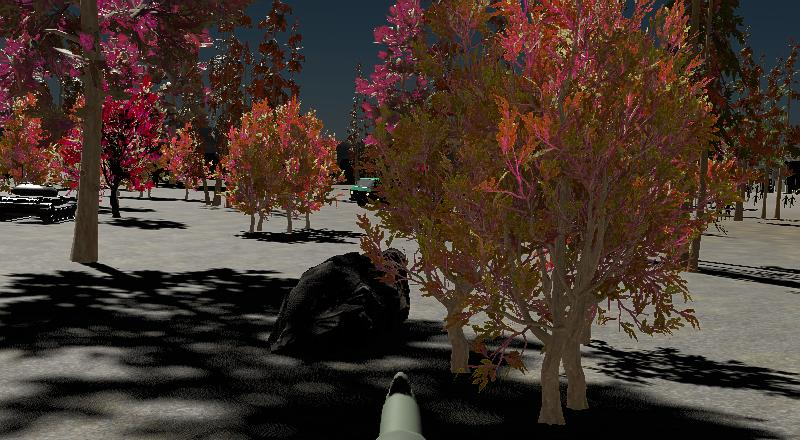Tank: (0, 177, 83, 226)
